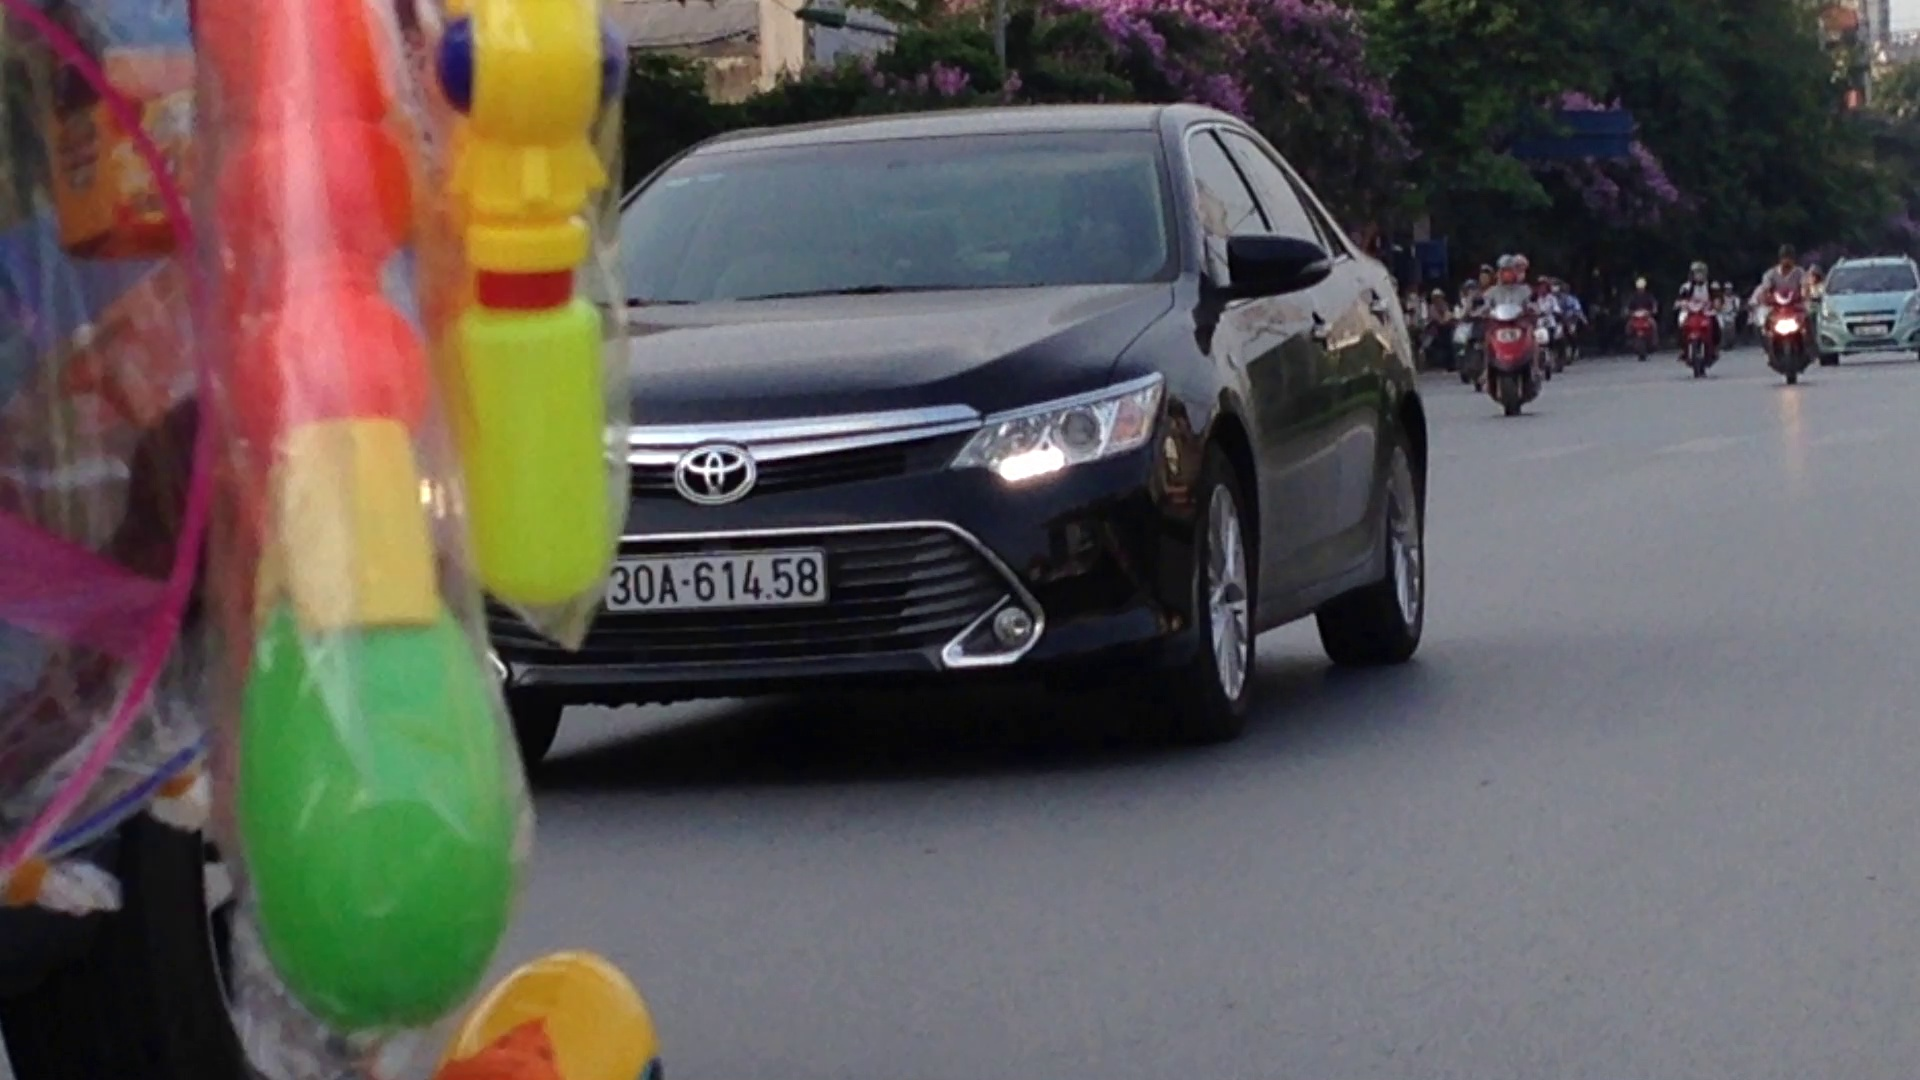person: (597, 553, 835, 616)
